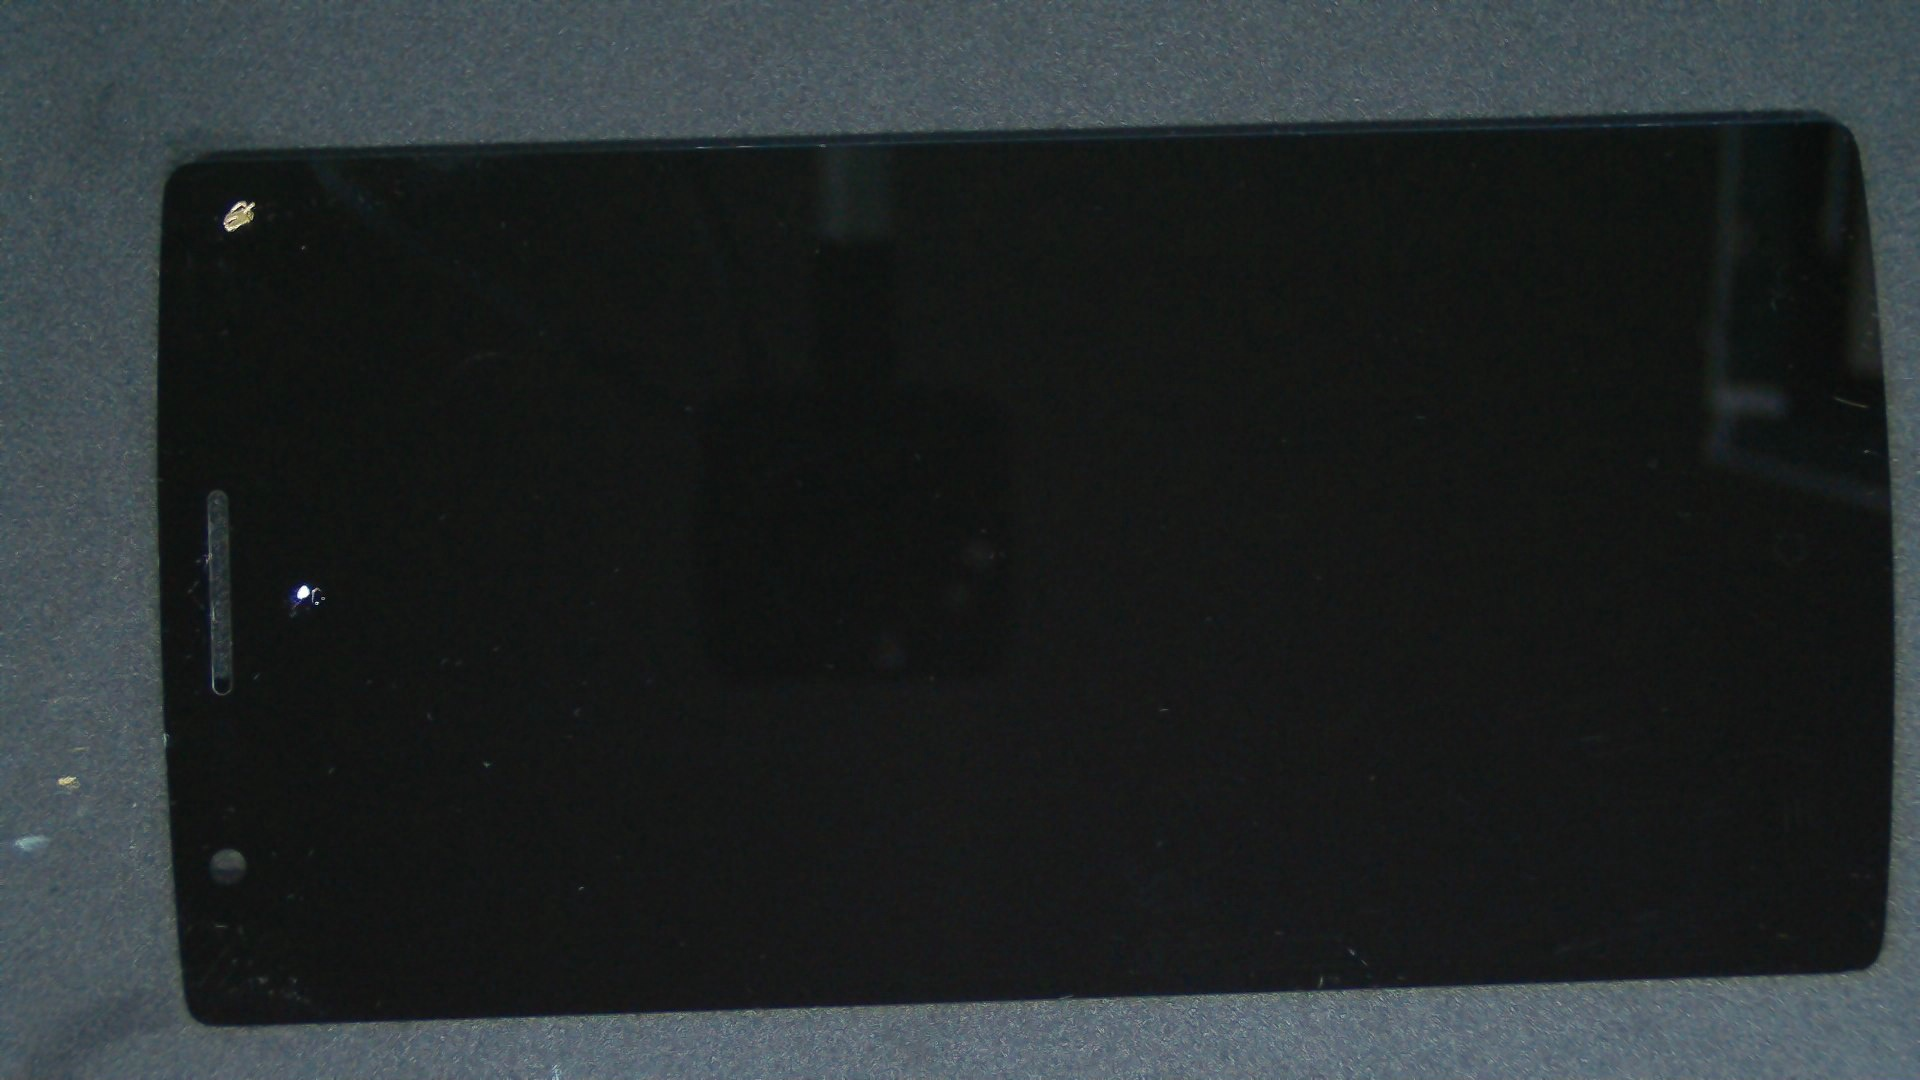oil: (153, 290, 451, 877), (119, 99, 356, 301)
